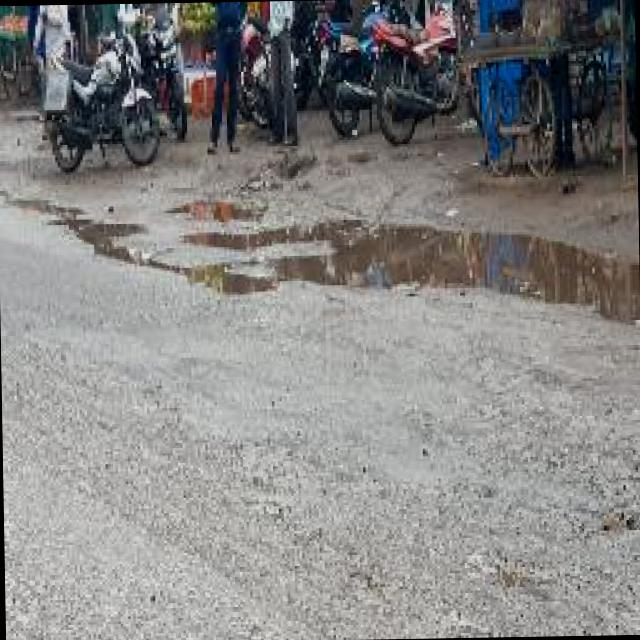waterlogging: (280, 212, 640, 342)
